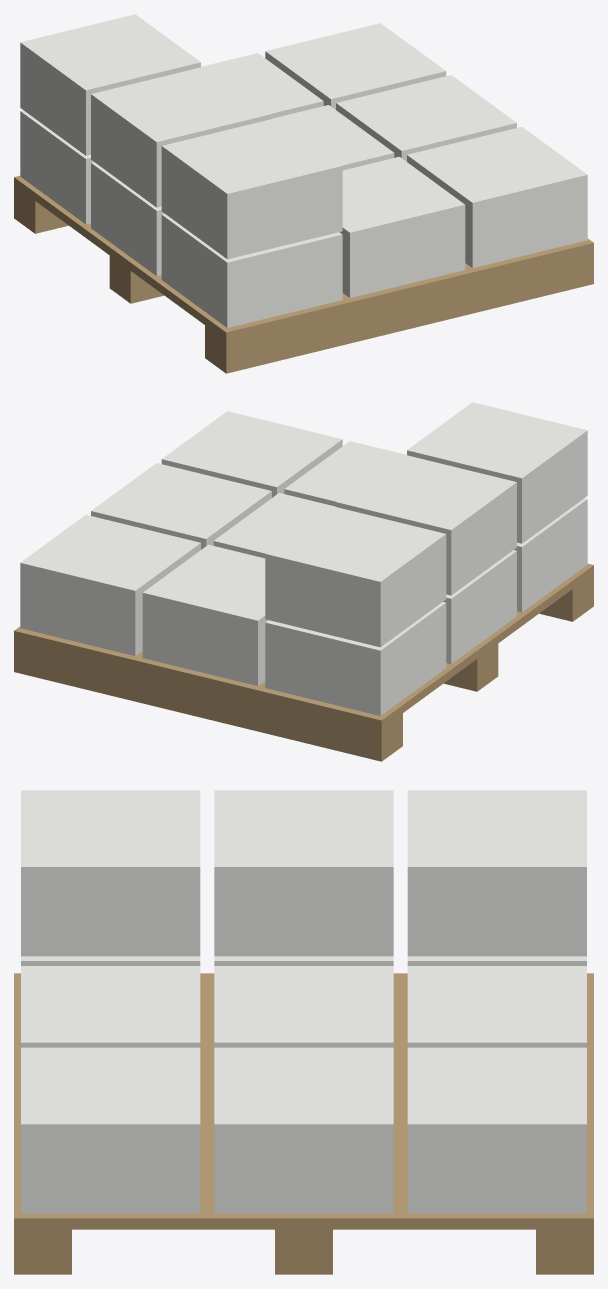
Rendered from pallet_mp_12.glb.
3 renders of one model, top to bottom at view 1: azimuth 30°, elevation 25°; view 2: azimuth 150°, elevation 25°; view 3: azimuth 270°, elevation 25°, orthographic. The views are drawn at different scales.
Parts seen in each view (by area): view 1: PalletMP; view 2: PalletMP; view 3: PalletMP.
Boxes of the visible parts, <box> form: PalletMP: <box>14,14,593,373</box>; PalletMP: <box>14,402,593,761</box>; PalletMP: <box>14,790,593,1274</box>.
Size of the model in its own units: 1 by 0.46 by 1.
